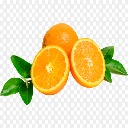orange: (30, 43, 70, 96), (69, 37, 107, 88), (42, 22, 79, 44)
